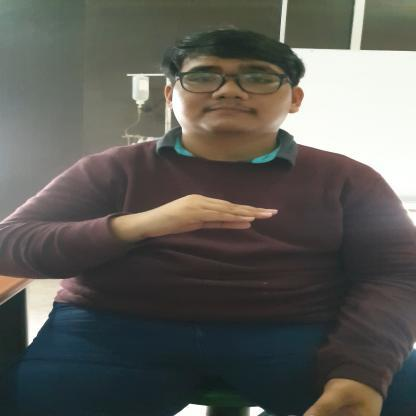Pagi: (111, 192, 281, 242)
